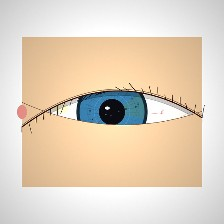pinguecula_lesion: (45, 95, 76, 120)
